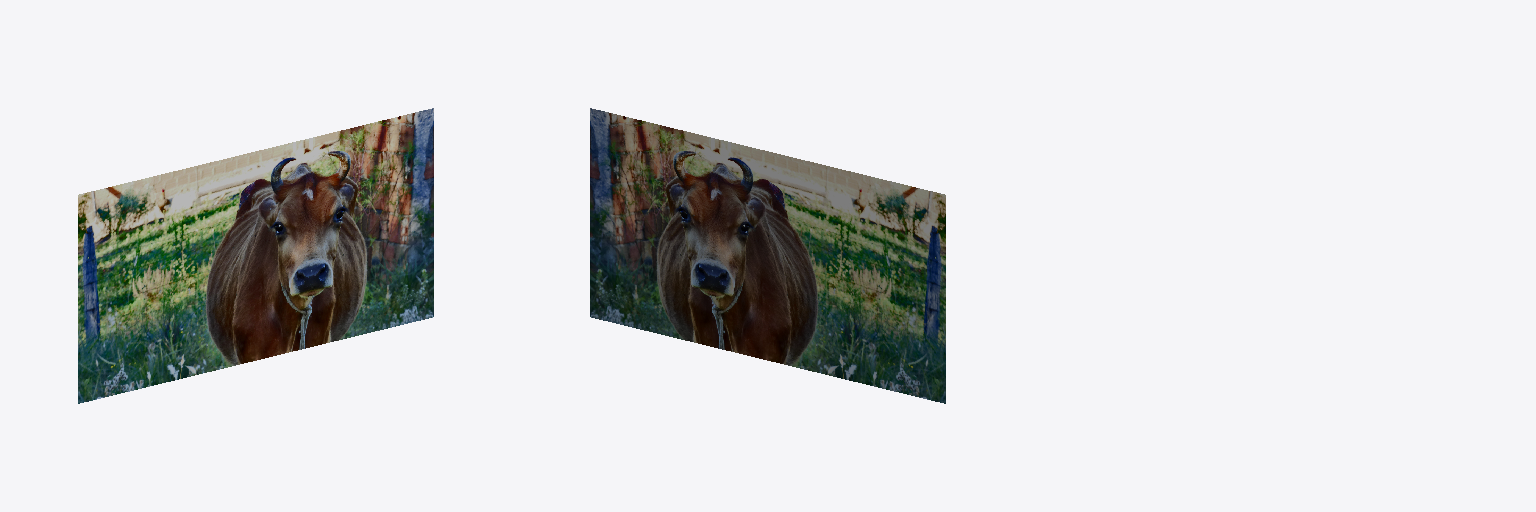
The picture shows the model from 3 angles: view 1: azimuth 30°, elevation 25°; view 2: azimuth 150°, elevation 25°; view 3: azimuth 270°, elevation 25°; orthographic projection.
Parts seen in each view (by area): view 1: A_vaca_01; view 2: A_vaca_01; view 3: none.
Part boxes in pixels (left/top/right/bottom): A_vaca_01: left=78, top=108, right=433, bottom=403; A_vaca_01: left=590, top=108, right=945, bottom=403.
Size of the model in its own units: 1.78 by 1 by 0.
Materials: 1 (1 with a texture image).